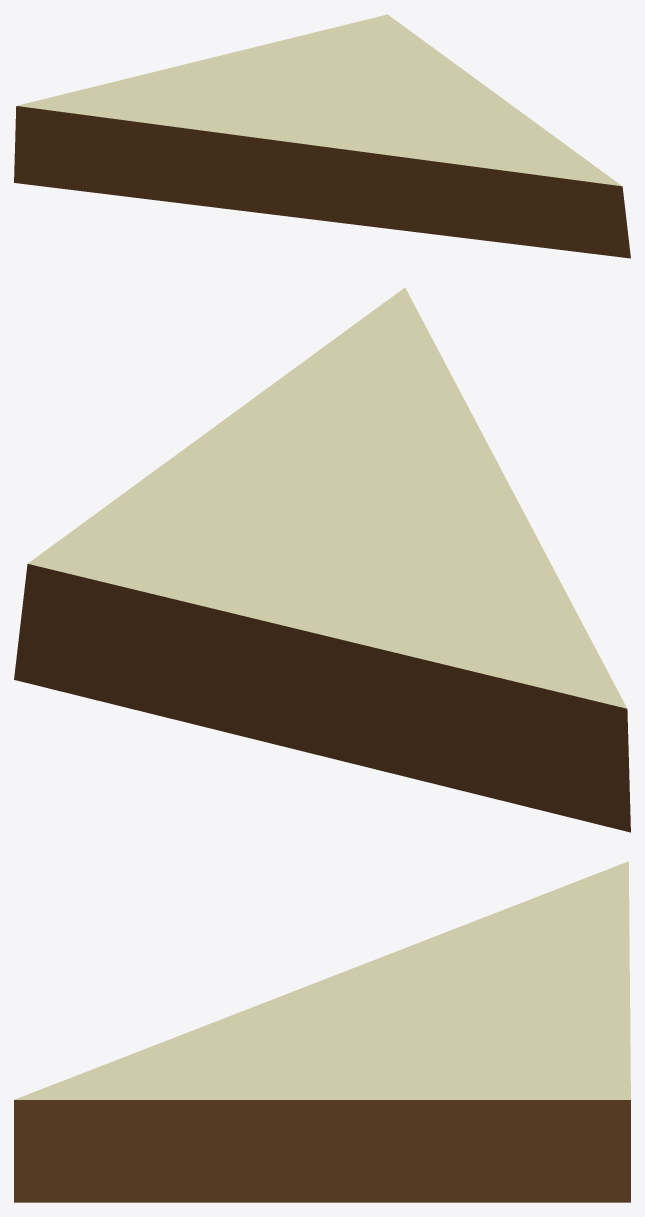
Rendered from pineSplitLogSingleAngleCutLeftSmallShelf.glb.
3 views of the same model, one above another, from view 1: azimuth 30°, elevation 25°; view 2: azimuth 150°, elevation 25°; view 3: azimuth 270°, elevation 25° (orthographic). The views are drawn at different scales.
Parts seen in each view (by area): view 1: Cylinder; view 2: Cylinder; view 3: Cylinder.
Part boxes in pixels (box(x1,y1,x2,y2)): Cylinder: box(14, 14, 630, 258); Cylinder: box(14, 287, 630, 832); Cylinder: box(14, 861, 630, 1202).
Size of the model in its own units: 0.3536 by 0.0675 by 0.3757.
